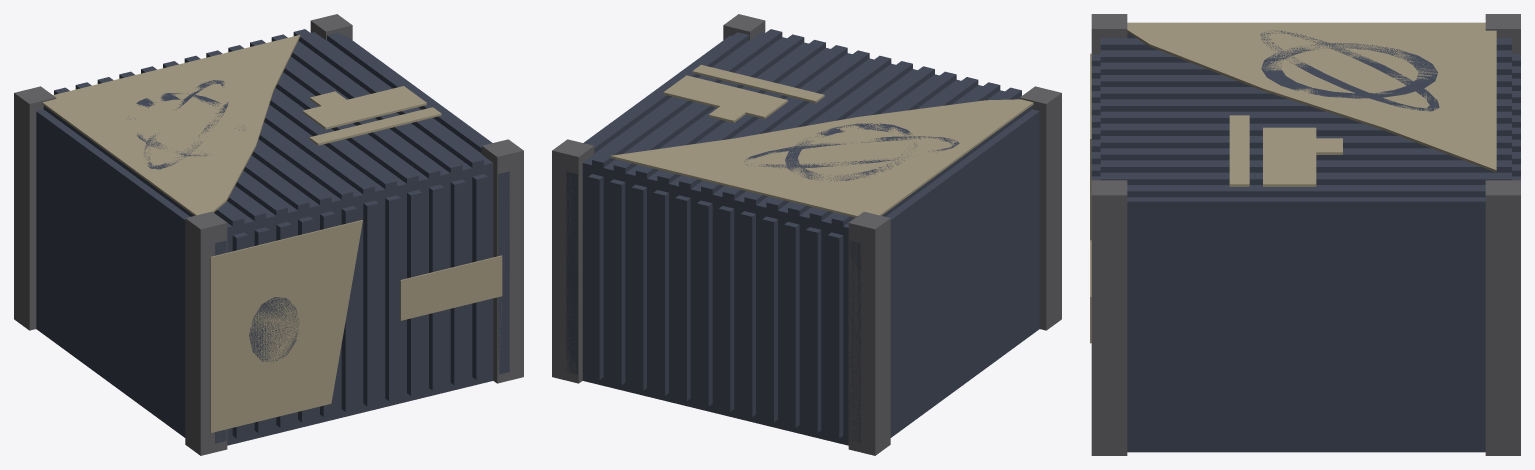
File: vge_trading_container_c.obj
3 views of the same model, side by side, from view 1: azimuth 30°, elevation 25°; view 2: azimuth 150°, elevation 25°; view 3: azimuth 270°, elevation 25° (orthographic). The views are drawn at different scales.
Parts seen in each view (by area): view 1: vge_trading_container_c_0, vge_trading_container_c_91, vge_trading_container_c_47, vge_trading_container_c_43, vge_trading_container_c_44, vge_trading_container_c_45, vge_trading_container_c_93, vge_trading_container_c_26, vge_trading_container_c_23, vge_trading_container_c_88, vge_trading_container_c_38, vge_trading_container_c_32 (+21 smaller); view 2: vge_trading_container_c_0, vge_trading_container_c_47, vge_trading_container_c_44, vge_trading_container_c_46, vge_trading_container_c_43, vge_trading_container_c_21, vge_trading_container_c_6, vge_trading_container_c_15, vge_trading_container_c_27, vge_trading_container_c_33, vge_trading_container_c_39, vge_trading_container_c_9 (+23 smaller); view 3: vge_trading_container_c_0, vge_trading_container_c_47, vge_trading_container_c_45, vge_trading_container_c_46, vge_trading_container_c_40, vge_trading_container_c_34, vge_trading_container_c_37, vge_trading_container_c_31, vge_trading_container_c_22, vge_trading_container_c_88, vge_trading_container_c_25, vge_trading_container_c_28 (+10 smaller).
Part boxes in pixels (x1,y1,x2,y2): vge_trading_container_c_0: [36, 32, 493, 445]; vge_trading_container_c_91: [210, 220, 362, 432]; vge_trading_container_c_47: [42, 35, 300, 215]; vge_trading_container_c_43: [185, 211, 227, 455]; vge_trading_container_c_44: [14, 86, 56, 330]; vge_trading_container_c_45: [481, 139, 523, 383]; vge_trading_container_c_93: [400, 255, 502, 320]; vge_trading_container_c_26: [385, 195, 400, 401]; vge_trading_container_c_23: [363, 200, 378, 406]; vge_trading_container_c_88: [302, 86, 426, 129]; vge_trading_container_c_38: [472, 174, 487, 379]; vge_trading_container_c_32: [429, 184, 444, 390]; vge_trading_container_c_0: [582, 32, 1039, 445]; vge_trading_container_c_47: [610, 99, 1033, 217]; vge_trading_container_c_44: [848, 211, 890, 455]; vge_trading_container_c_46: [552, 139, 594, 383]; vge_trading_container_c_43: [1019, 86, 1061, 330]; vge_trading_container_c_21: [718, 206, 734, 411]; vge_trading_container_c_6: [827, 232, 843, 438]; vge_trading_container_c_15: [762, 216, 777, 422]; vge_trading_container_c_27: [675, 195, 690, 401]; vge_trading_container_c_33: [631, 184, 646, 390]; vge_trading_container_c_39: [588, 174, 603, 379]; vge_trading_container_c_9: [806, 227, 821, 432]; vge_trading_container_c_0: [1127, 197, 1485, 452]; vge_trading_container_c_47: [1127, 22, 1496, 172]; vge_trading_container_c_45: [1091, 180, 1127, 455]; vge_trading_container_c_46: [1485, 180, 1520, 455]; vge_trading_container_c_40: [1127, 185, 1485, 197]; vge_trading_container_c_34: [1100, 160, 1511, 172]; vge_trading_container_c_37: [1100, 172, 1511, 184]; vge_trading_container_c_31: [1100, 148, 1511, 160]; vge_trading_container_c_22: [1100, 111, 1511, 123]; vge_trading_container_c_88: [1263, 127, 1316, 186]; vge_trading_container_c_25: [1100, 123, 1511, 135]; vge_trading_container_c_28: [1100, 136, 1511, 148].
Bounding box in the file's own units: 1.94 × 1.3 × 1.95.
